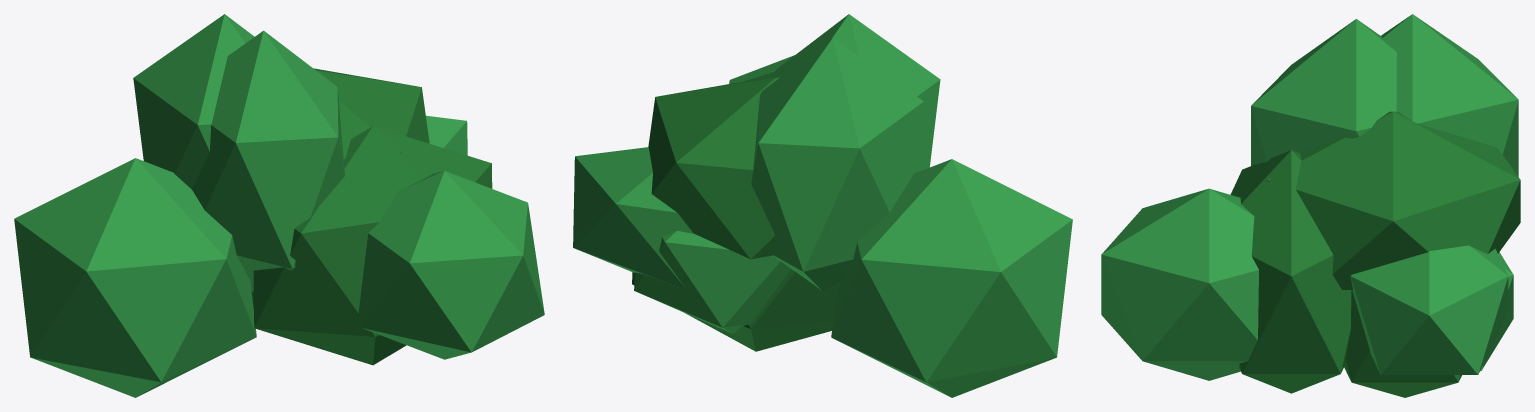
The model's file is SM_Bush_A.glb.
3 renders of one model, left to right at view 1: azimuth 30°, elevation 25°; view 2: azimuth 150°, elevation 25°; view 3: azimuth 270°, elevation 25°, orthographic. The views are drawn at different scales.
Visible parts, largest first — view 1: SM_Bush_A; view 2: SM_Bush_A; view 3: SM_Bush_A.
Part boxes in pixels (x1=…): SM_Bush_A: x1=14, y1=14, x2=544, y2=397; SM_Bush_A: x1=573, y1=14, x2=1072, y2=397; SM_Bush_A: x1=1101, y1=14, x2=1520, y2=397.
Size of the model in its own units: 3.39 by 2.45 by 2.63.
